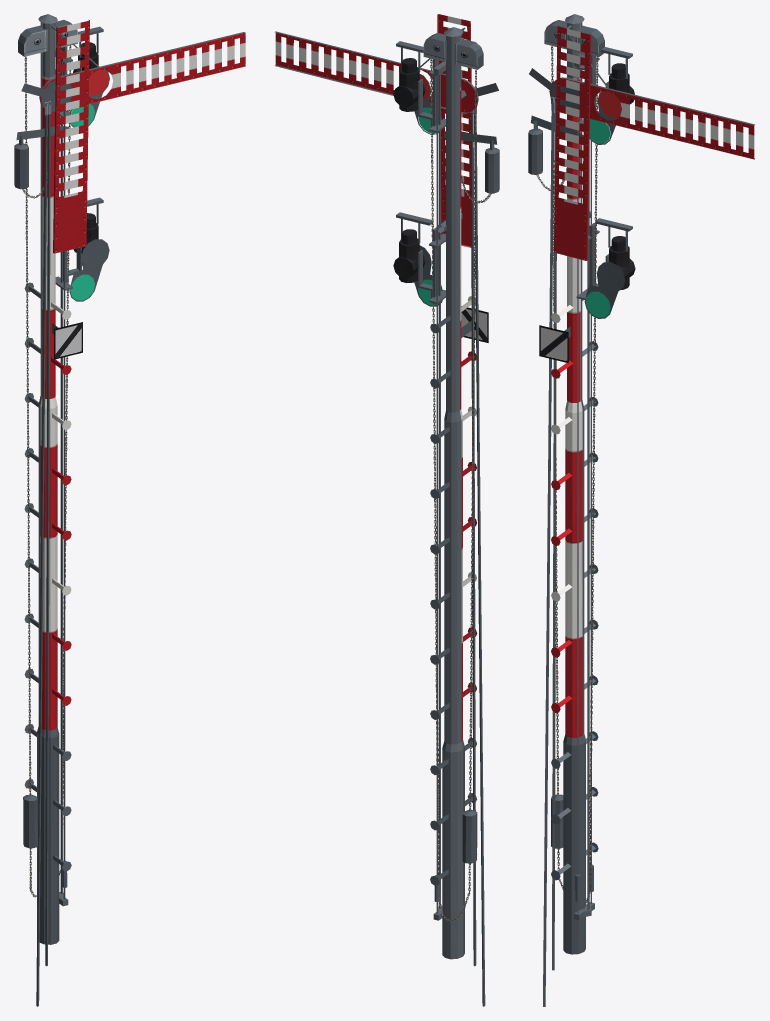
The model's file is 2ramena.obj.
3 renders of one model, left to right at view 1: azimuth 30°, elevation 25°; view 2: azimuth 150°, elevation 25°; view 3: azimuth 330°, elevation 25°, orthographic.
Parts seen in each view (by area): view 1: stozar, rameno_2, rameno_1, tahlo_2, tahlo_1, retezy, drzak_clonek_2, skupinove; view 2: stozar, rameno_1, retezy, tahlo_2, tahlo_1, rameno_2, skupinove; view 3: stozar, rameno_2, rameno_1, tahlo_2, retezy, tahlo_1, drzak_clonek_2, skupinove.
Part boxes in pixels (<box>): stozar: <box>14,14,103,944</box>; rameno_2: <box>53,20,89,253</box>; rameno_1: <box>21,32,245,127</box>; tahlo_2: <box>36,102,47,1006</box>; tahlo_1: <box>45,101,51,966</box>; retezy: <box>21,45,71,897</box>; drzak_clonek_2: <box>69,239,109,301</box>; skupinove: <box>52,322,82,359</box>; stozar: <box>393,27,499,959</box>; rameno_1: <box>274,31,498,134</box>; retezy: <box>430,58,491,921</box>; tahlo_2: <box>473,107,485,1006</box>; tahlo_1: <box>470,110,476,966</box>; rameno_2: <box>437,14,474,247</box>; skupinove: <box>461,306,488,342</box>; stozar: <box>528,14,635,954</box>; rameno_2: <box>554,25,591,260</box>; rameno_1: <box>529,68,754,159</box>; tahlo_2: <box>543,97,554,1006</box>; retezy: <box>536,46,598,904</box>; tahlo_1: <box>552,97,556,970</box>; drzak_clonek_2: <box>584,262,625,318</box>; skupinove: <box>539,325,570,363</box>.
Bounding box in the file's own units: 1.19 × 4.91 × 0.357.
